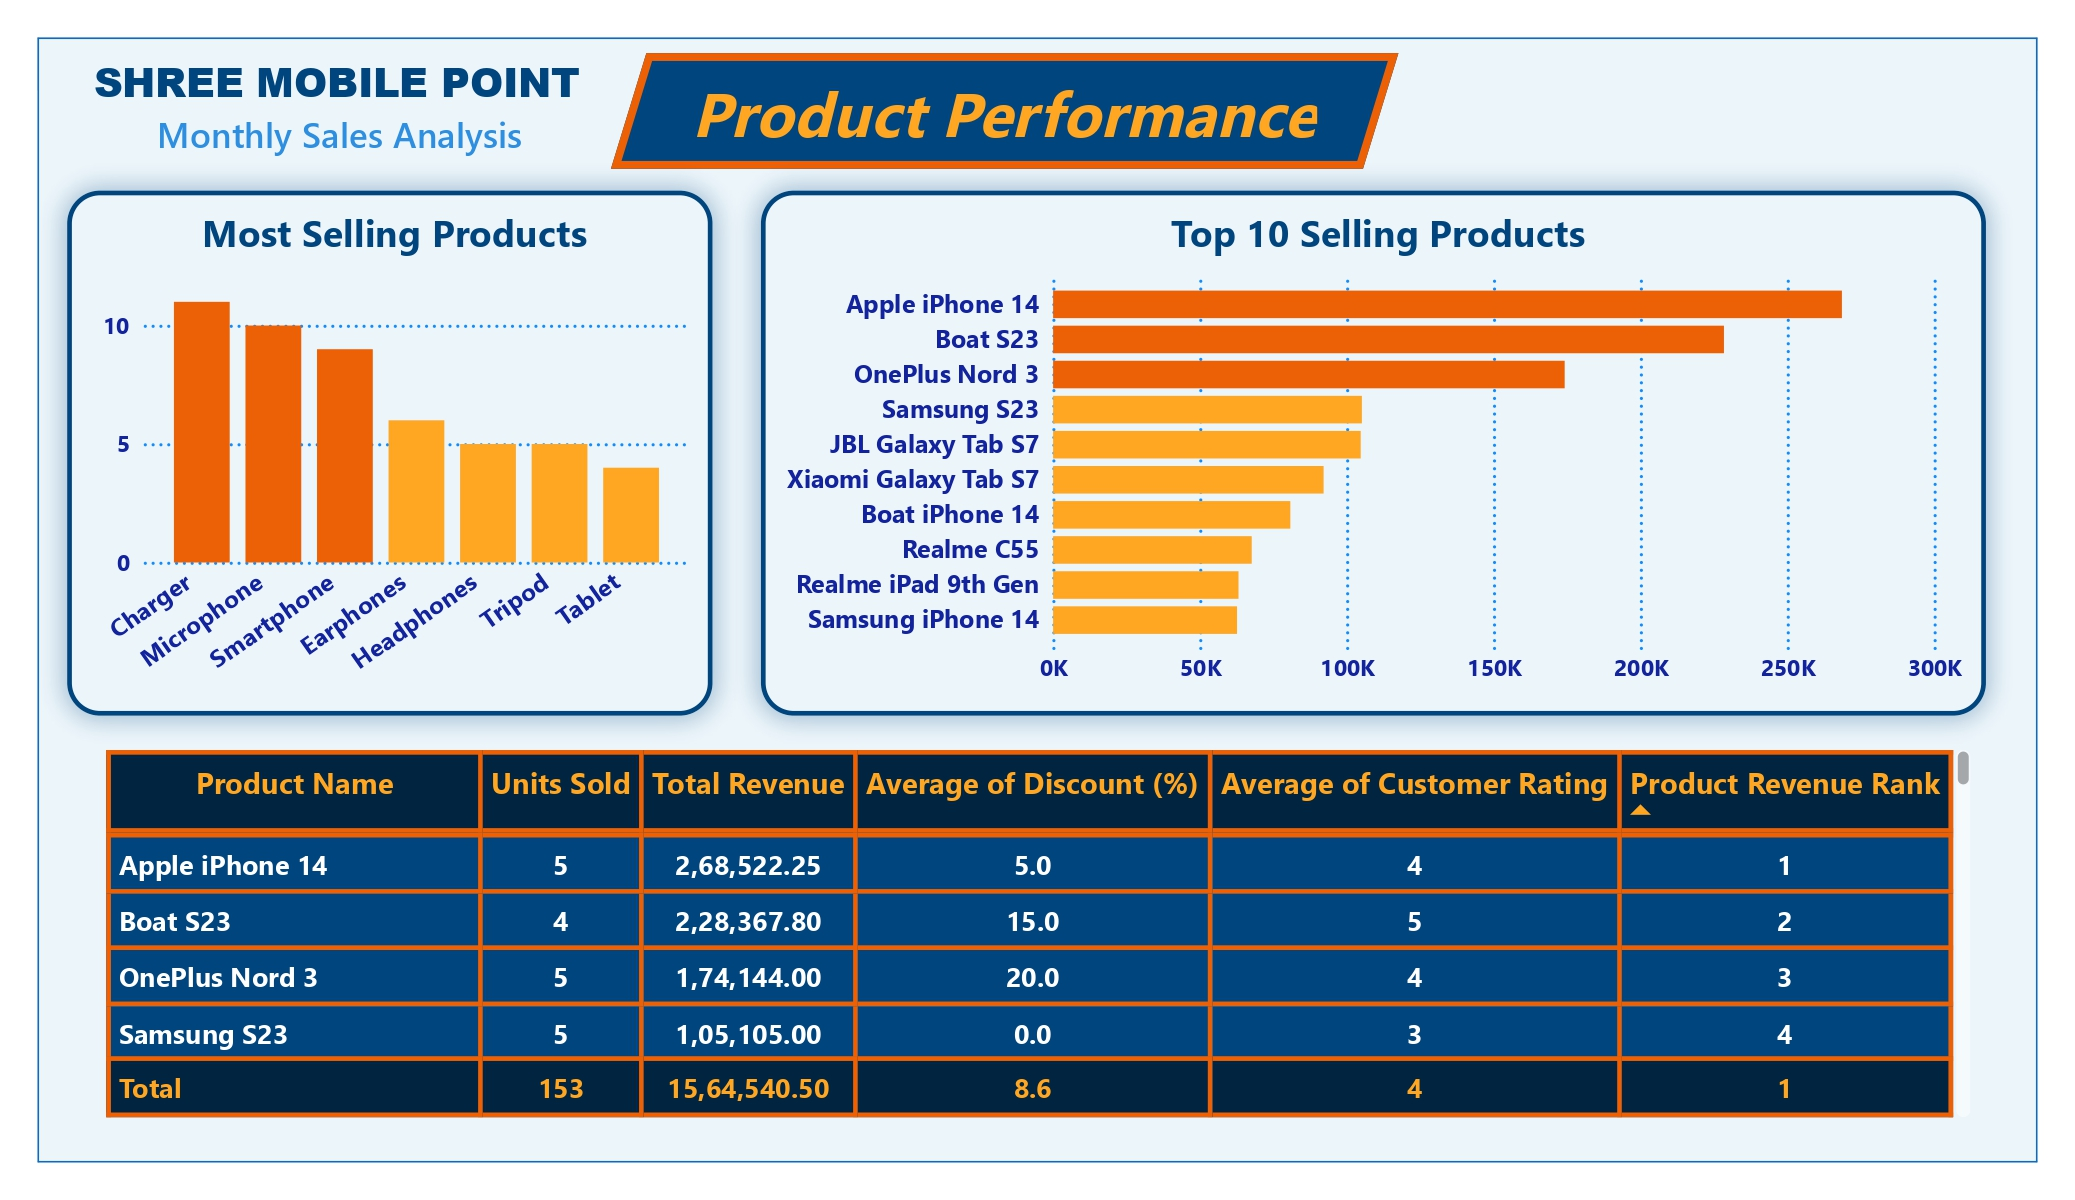

What the dashboard file says about the page in this screenshot:
{"tool":"powerbi","page":{"name":"Product Performance","canvas":[1280,720],"ordinal":1},"visuals":[{"type":"shape","box":[0,0,1280,720.1],"z":0},{"type":"textbox","title":"SHREE MOBILE POINT","box":[30.9,10.3,326.2,36.7],"z":1000},{"type":"textbox","title":"Monthly Sales Analysis","box":[55.8,47,274.8,36.7],"z":2000},{"type":"shape","box":[367.3,10.3,504,73.5],"z":3000},{"type":"columnChart","title":"Most Selling Products","fields":{"Category":["Sales.Product Category"],"Y":["Sales.Transactions"]},"box":[18.7,98,413.7,335.9],"z":4000},{"type":"clusteredBarChart","title":"Top 10 Selling Products","fields":{"Category":["Sales.Product Name"],"Y":["Sum(Sales.Total Sales(INR))"]},"box":[463.1,97.7,783.6,336.1],"z":5000},{"type":"tableEx","fields":{"Values":["Sales.Product Name","Sales.Units Sold","Sales.Total Revenue","Avg(Sales.Discount (%))","Avg(Sales.Customer Rating)","Sales.Product Revenue Rank"]},"box":[38.2,451.1,1203.4,245.4],"z":6000}]}

Visuals, with their boxes on the page's 1280x720 design canvas (x1, y1, x2, y2). These are canvas units, not pixel positions in the 2075x1200 screenshot, which may show the page scaled, cropped or inside an application window:
shape: box=[0, 0, 1280, 720]
"SHREE MOBILE POINT" textbox: box=[31, 10, 357, 47]
"Monthly Sales Analysis" textbox: box=[56, 47, 331, 84]
shape: box=[367, 10, 871, 84]
"Most Selling Products" columnChart: box=[19, 98, 432, 434]
"Top 10 Selling Products" clusteredBarChart: box=[463, 98, 1247, 434]
tableEx - Sales.Product Name x Sales.Units Sold: box=[38, 451, 1242, 696]
